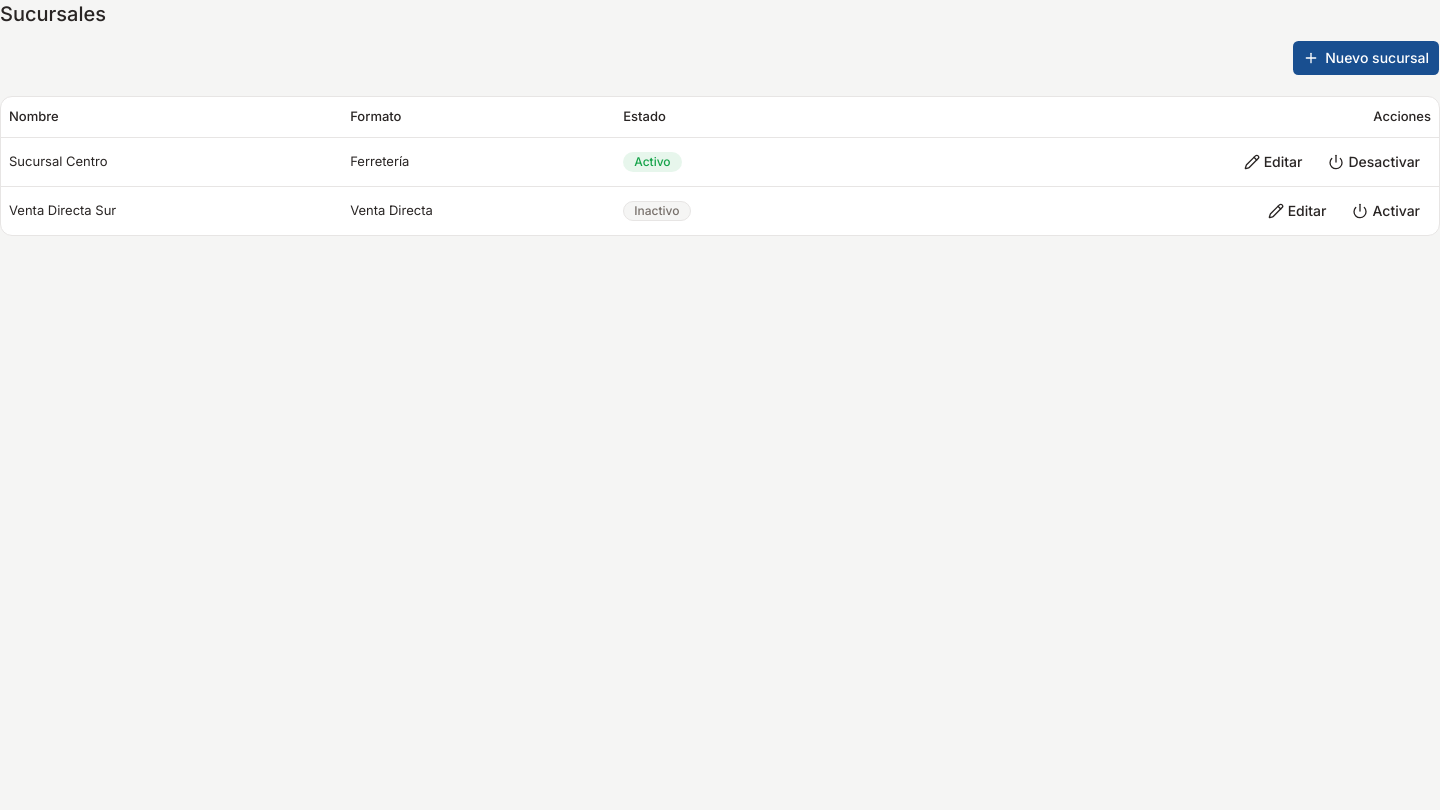
Test: administración de sucursales › si el backend bloquea el cambio de formato (409), muestra su mensaje y deja abierto el formulario
expect the text "Sucursal Centro" is shown: met, box [1,137,342,186]
Click the button "Editar" in the row of "Sucursal Centro" at (1273, 162), box [1233,146,1314,178]
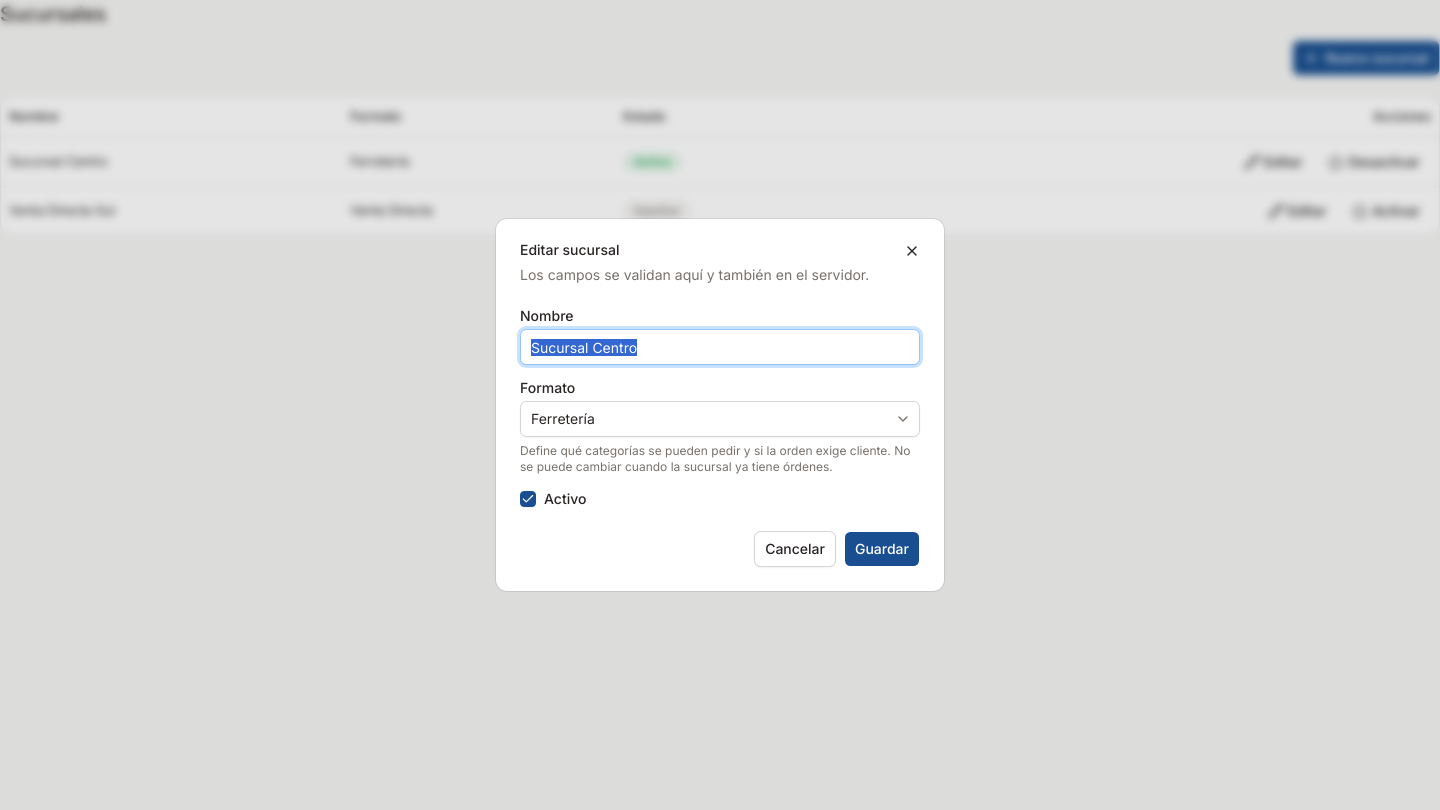
expect the field labelled "Nombre" is shown: met, box [520,329,920,365]
Click the button "Guardar" at (882, 549), box [844,531,920,567]
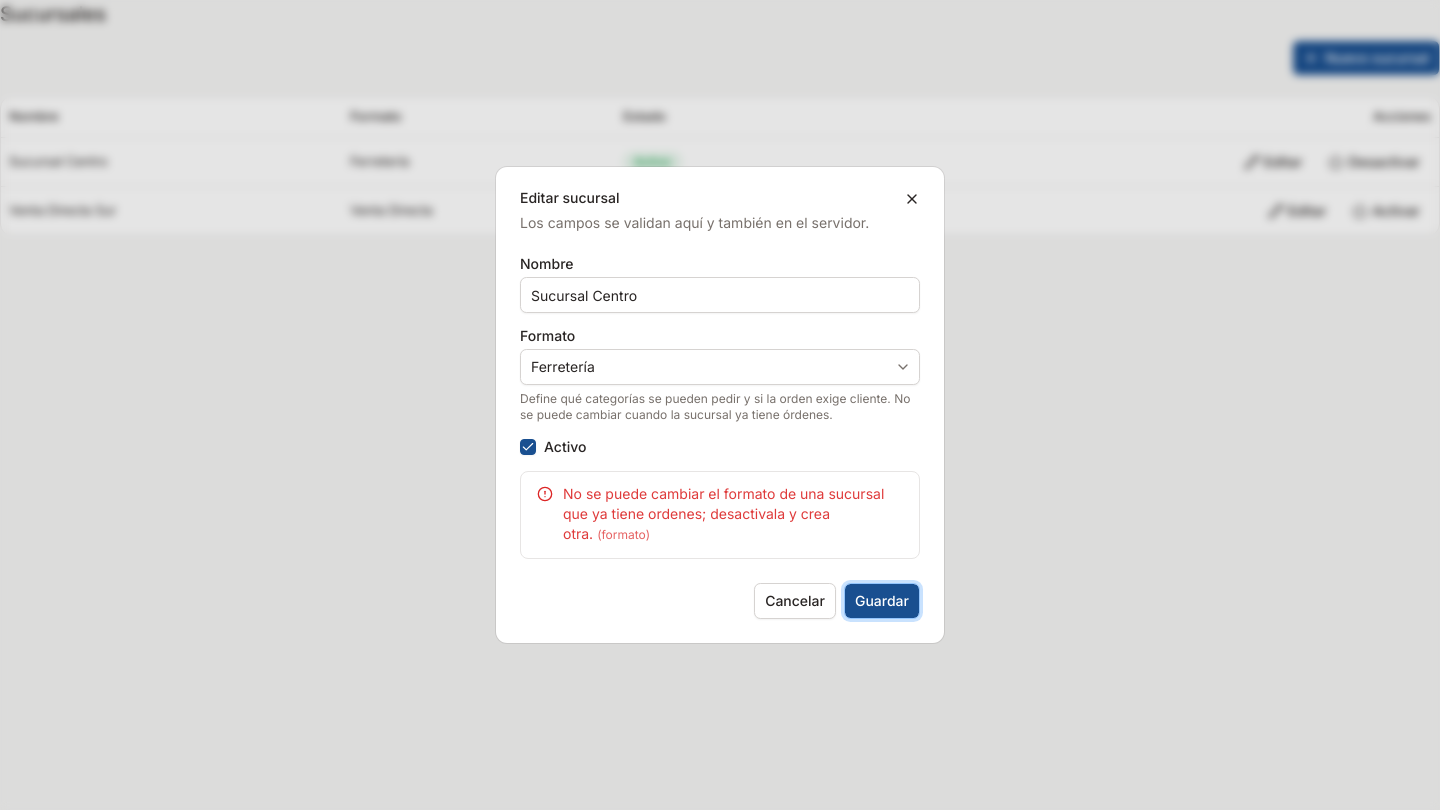
expect the field labelled "Nombre" is shown: met, box [520,277,920,313]
expect the text "ya tiene ordenes; desactivala y crea otra" is shown: met, box [563,485,884,542]
